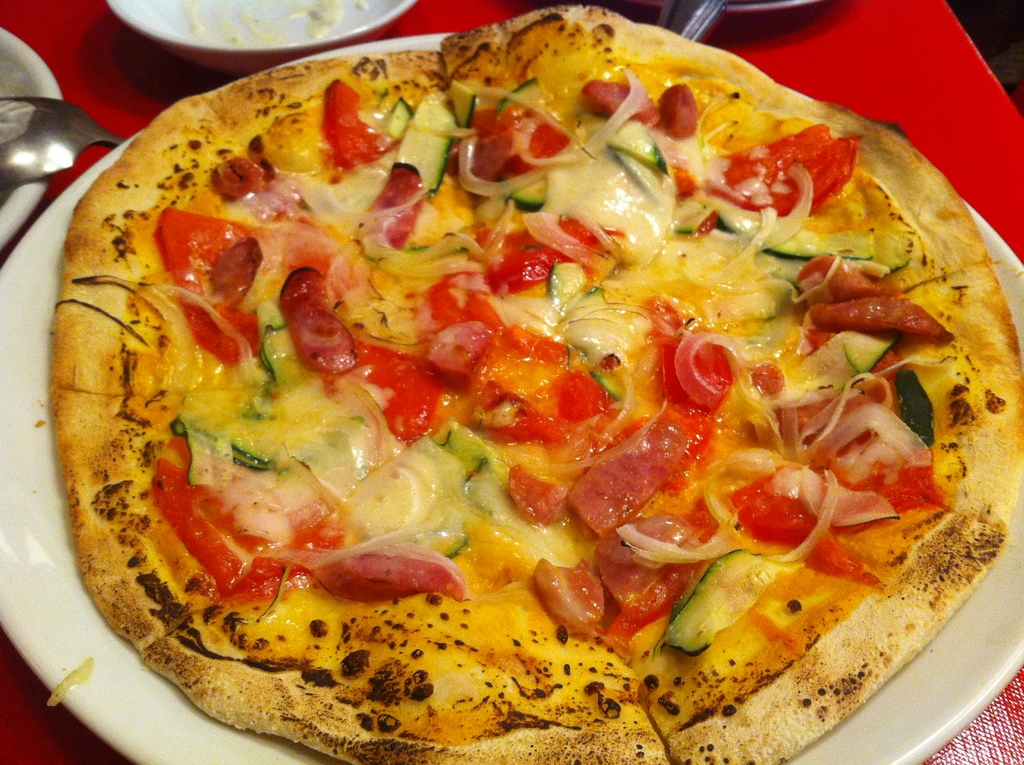Pizza: (33, 32, 1003, 763)
